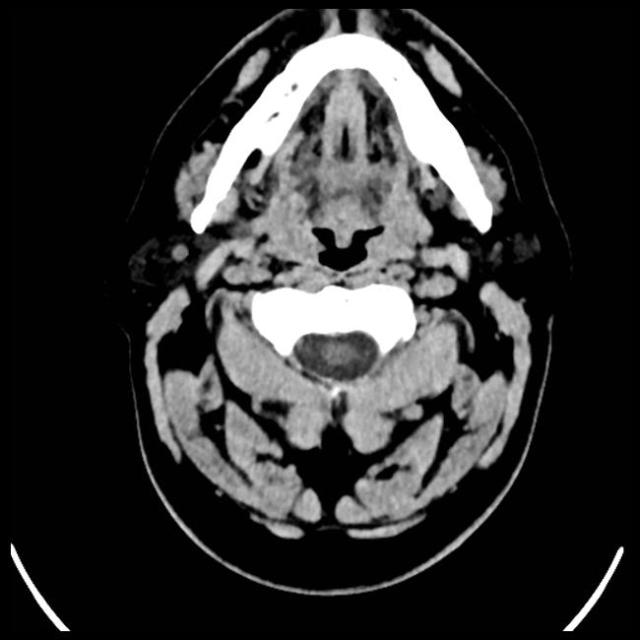lesion: (127, 18, 549, 550)
